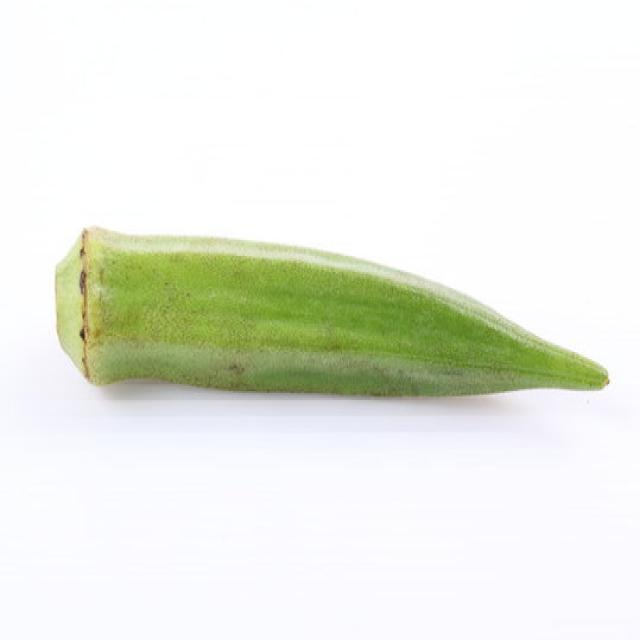Okra: (54, 222, 609, 398)
